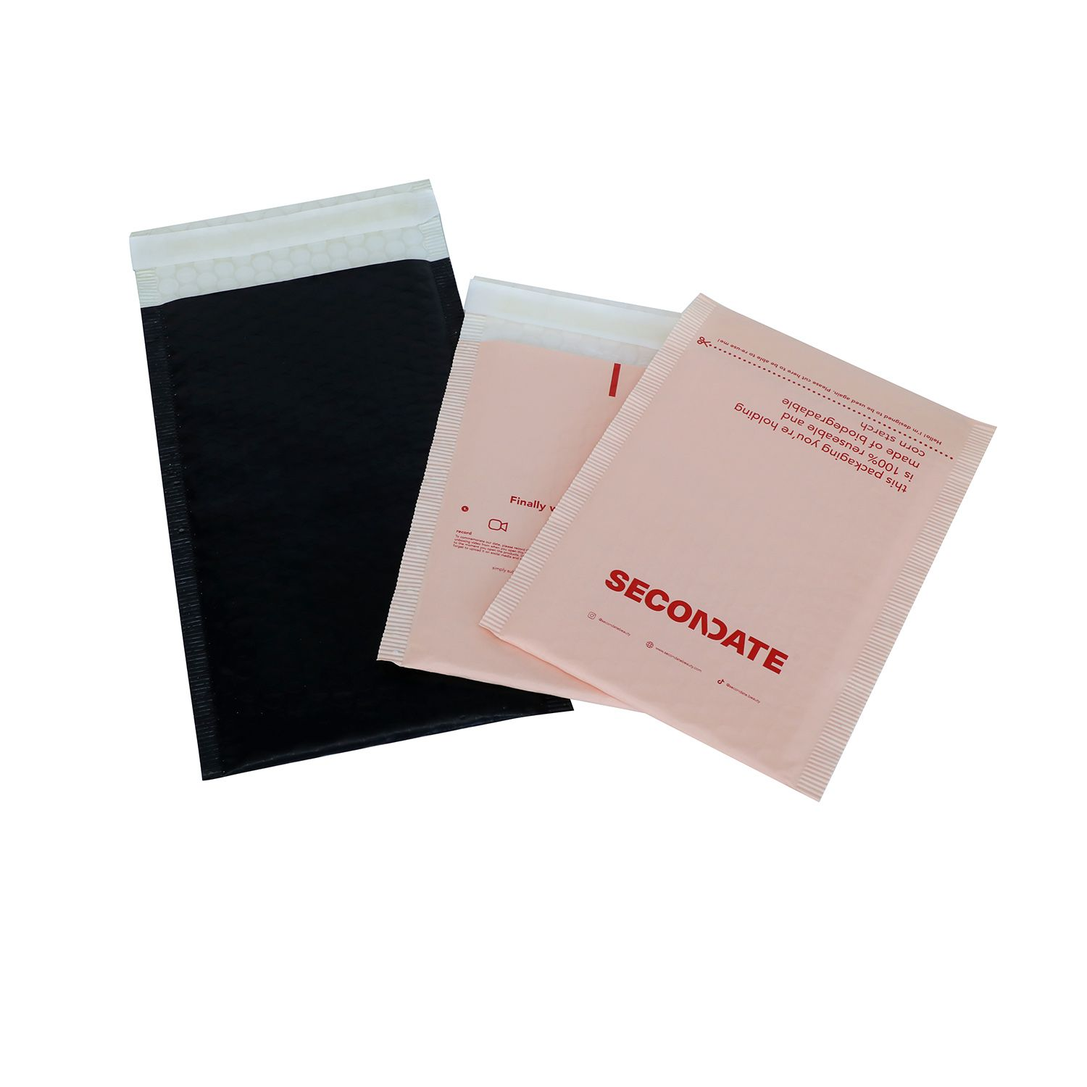Parcel: (474, 265, 997, 801), (131, 182, 571, 780), (379, 278, 677, 706)
